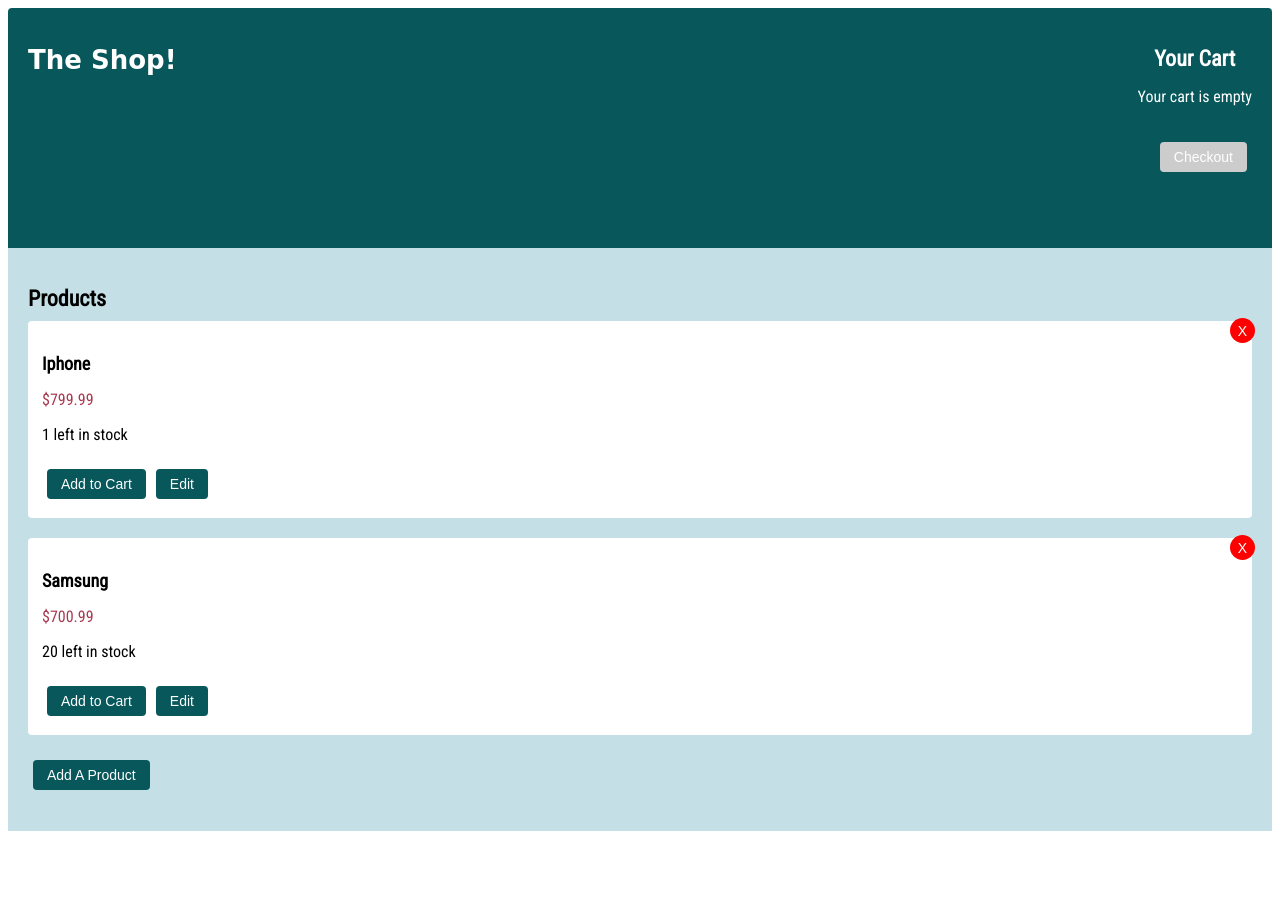
Scenario: Editing a product changes its listed details
Click the button "Edit" below "799.99": (182,484) [156,469,208,499]
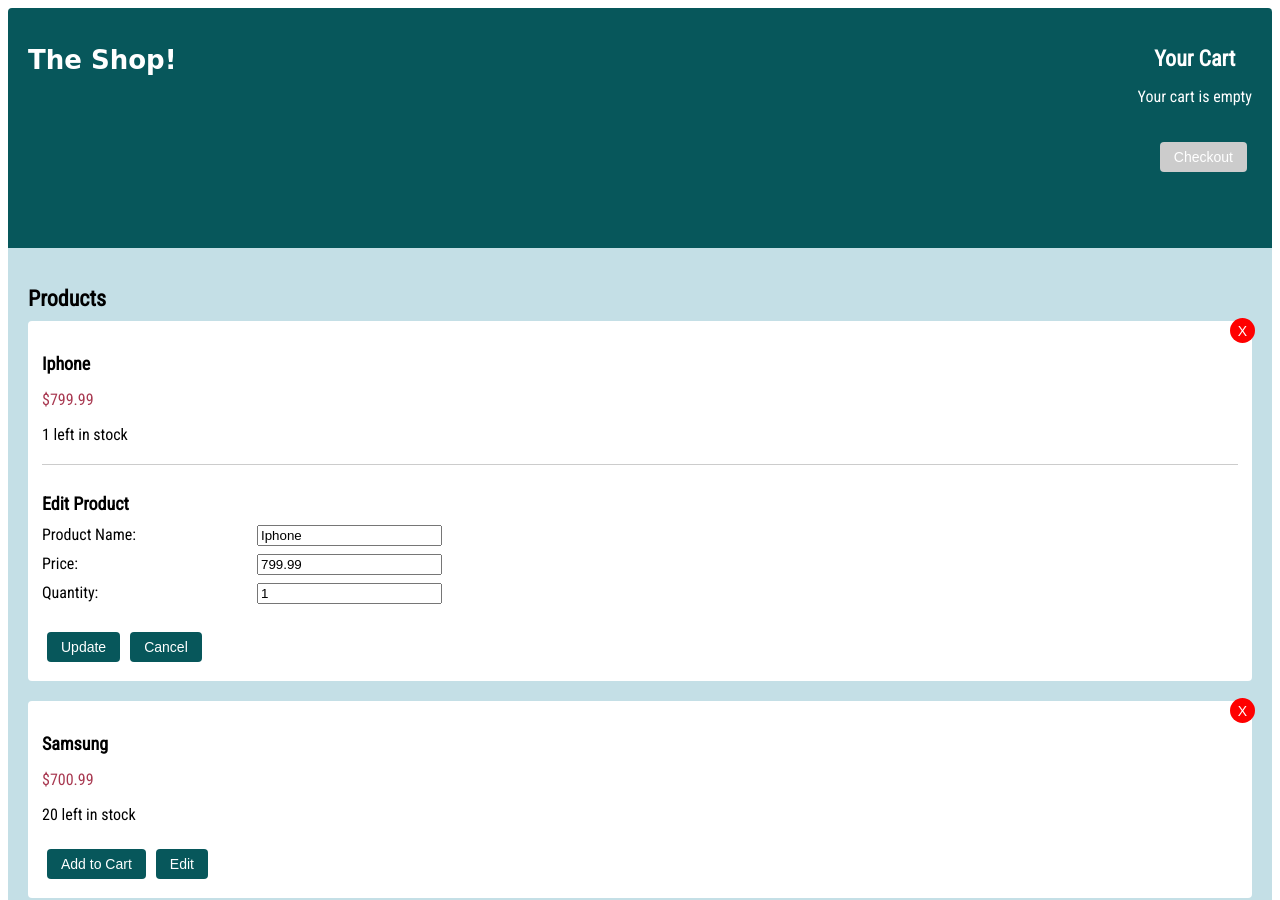
Replace the text in the field labelled "Product Name:" with "MacBook Air": (350,536) [257,525,442,546]
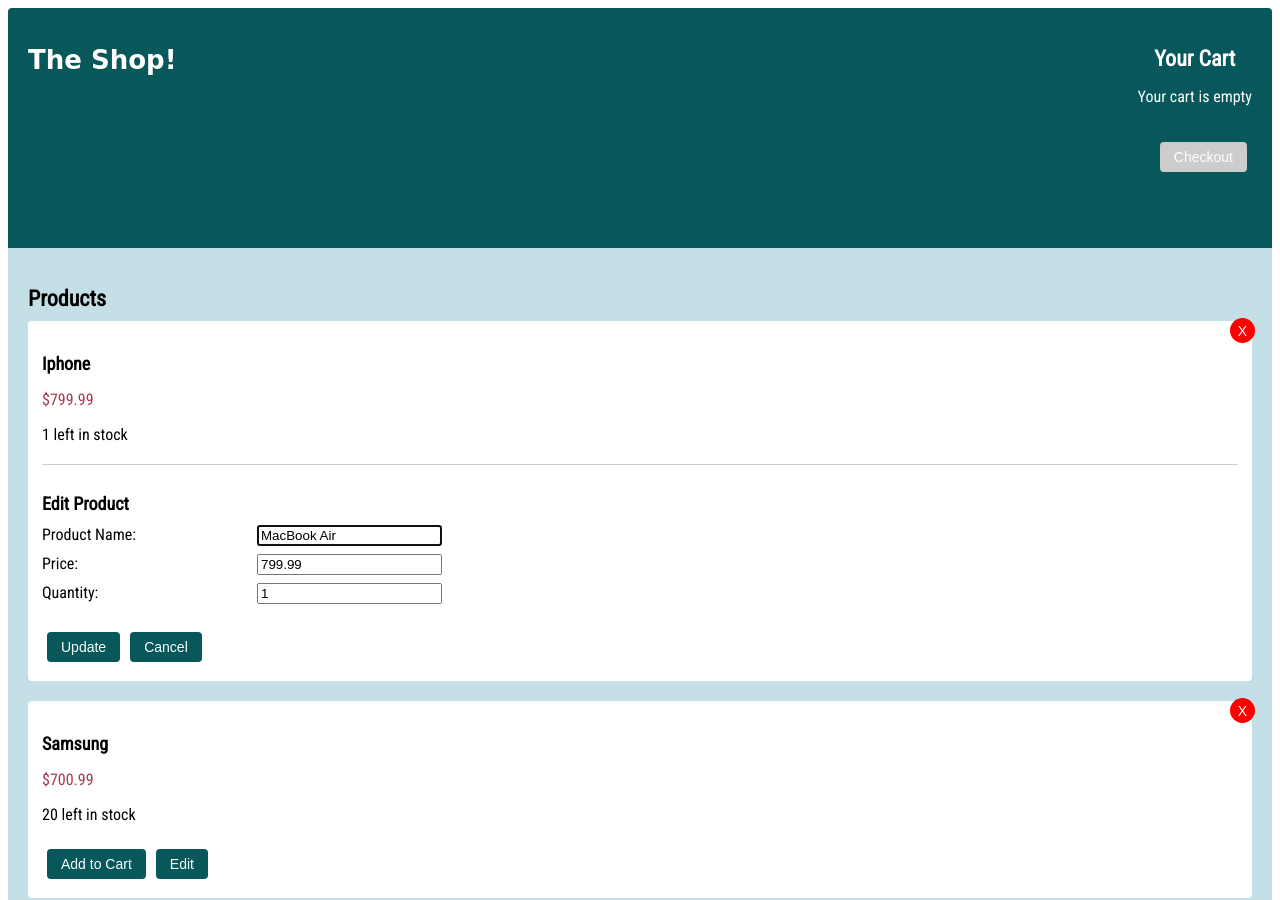
Replace the text in the number field labelled "Price:" with "1400": (350,565) [257,554,442,575]
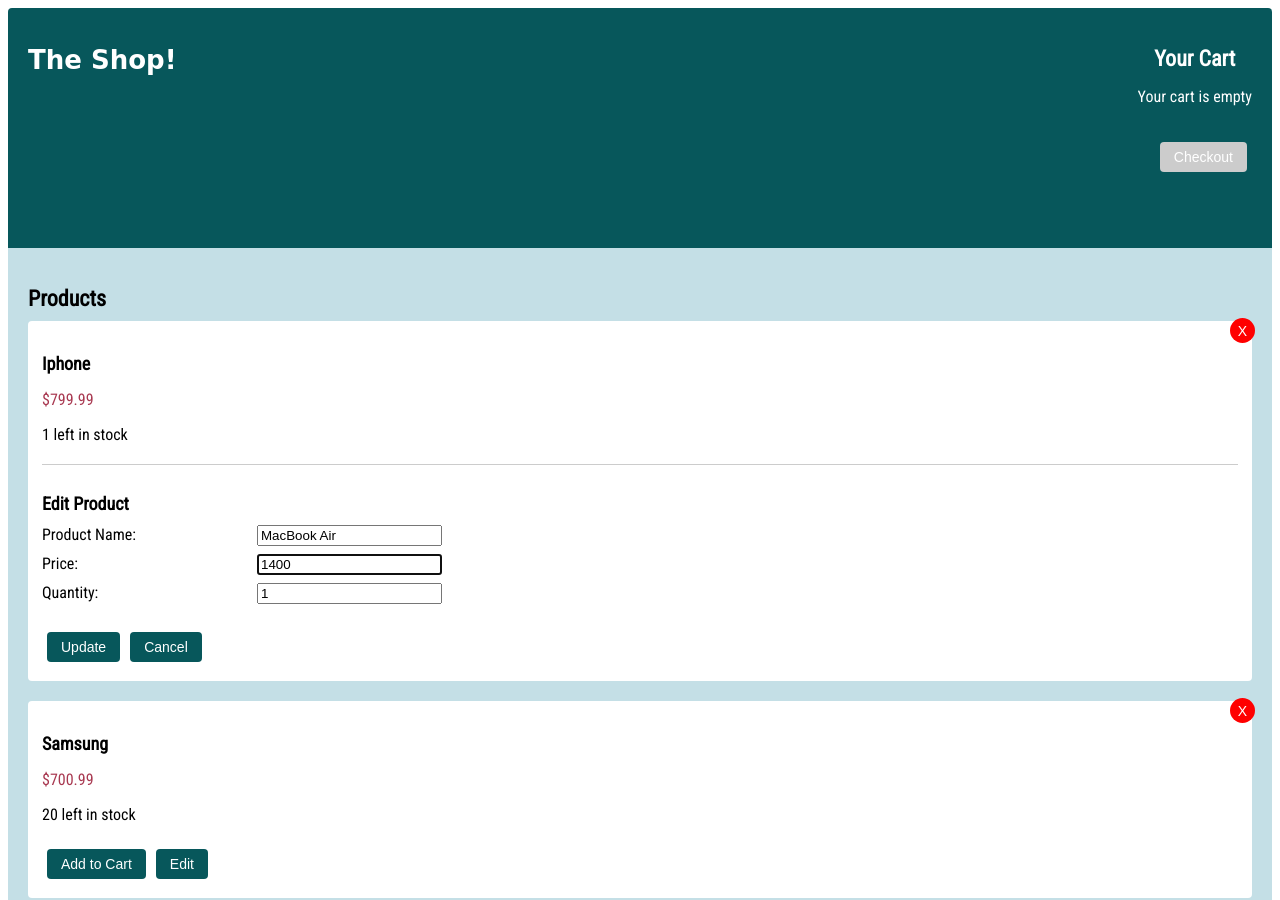
Replace the text in the number field labelled "Quantity:" with "100": (350,594) [257,583,442,604]
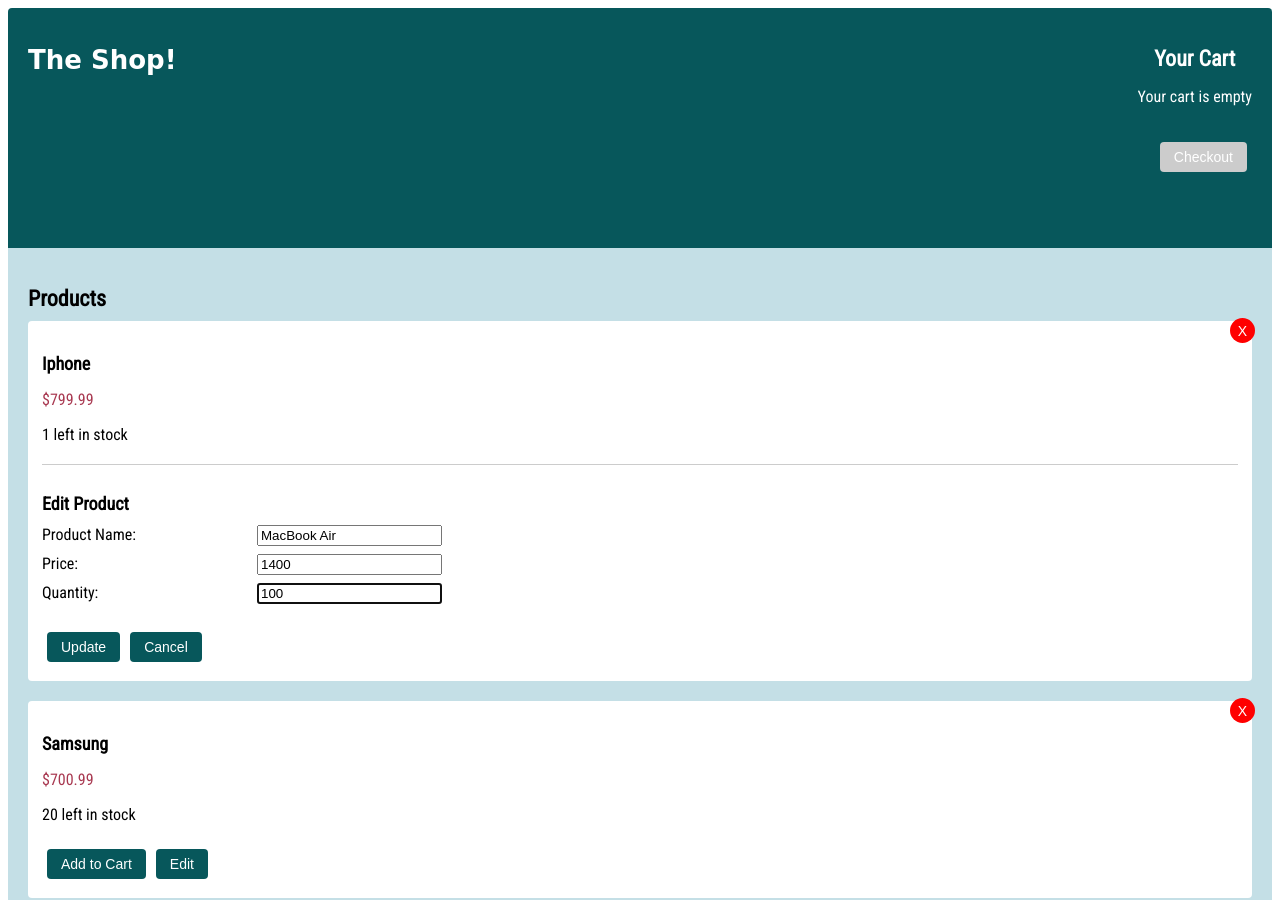
Click the button "Update": (84,647) [47,632,120,662]
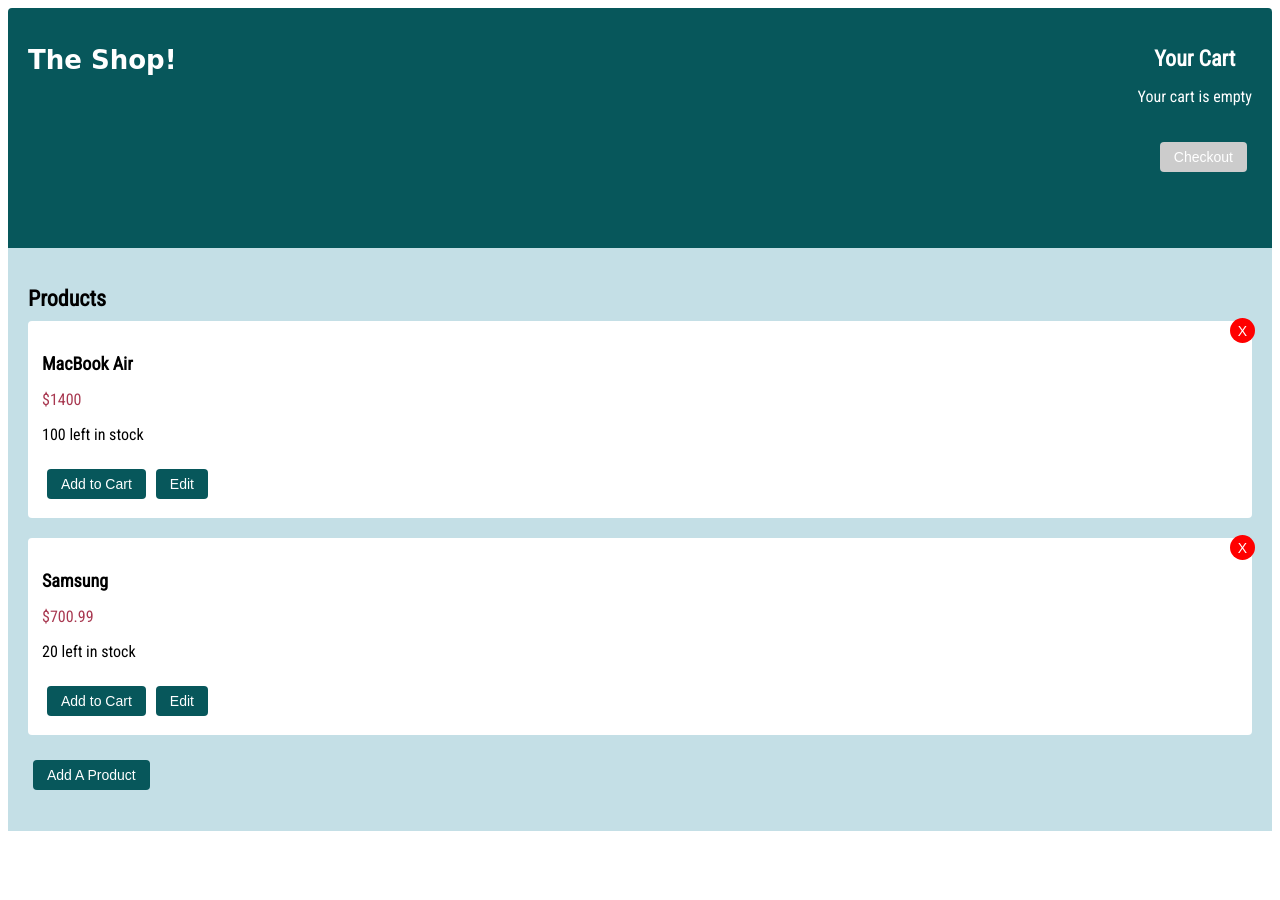
Check: the heading "MacBook Air" is shown, box [42,353,133,374]
Check: the heading "Iphone" is gone
